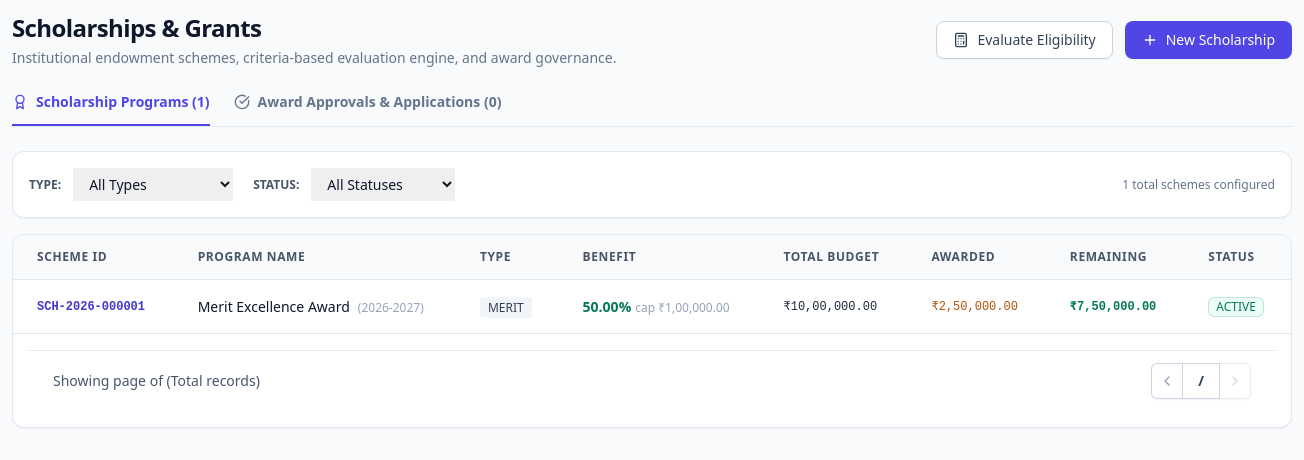
Test case: Task 4: Financial Management Frontend Pages › Scholarships Page › renders scholarship schemes and switches tabs to awards
Expected: the heading "Scholarships & Grants" is shown, x1=12 y1=11 x2=261 y2=44
Expected: the text "Merit Excellence Award" is shown, x1=198 y1=296 x2=350 y2=316
Switch to Awards tab
Click the button "Award Approvals & Applications (0)" at x=368, y=109, box x1=234 y1=92 x2=502 y2=126
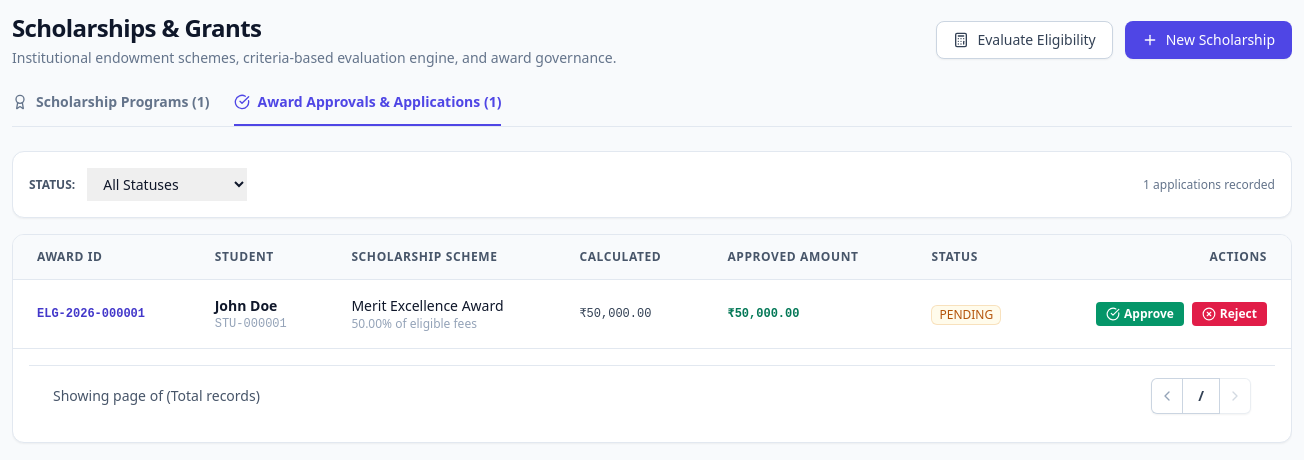
Now the text "ELG-2026-000001" is shown, box x1=13 y1=280 x2=191 y2=348
Now the text "John Doe" is shown, box x1=215 y1=296 x2=277 y2=315
